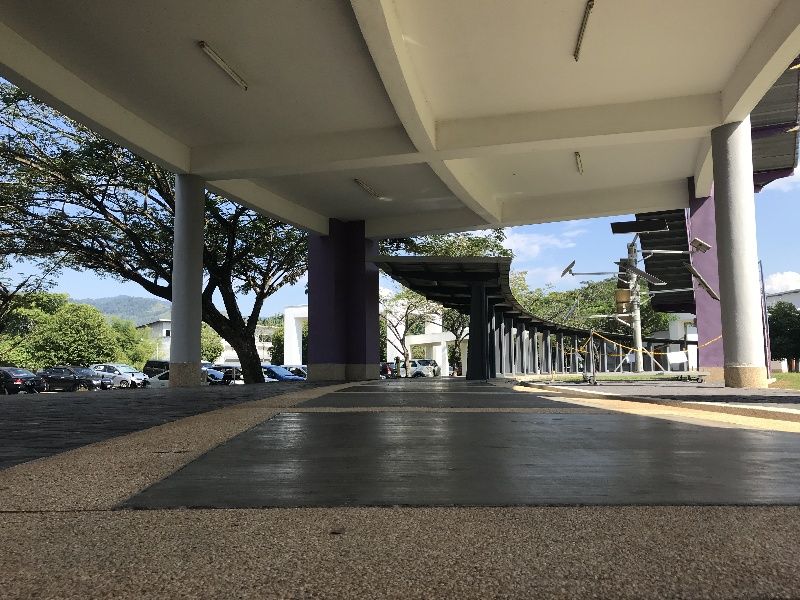pillar: (693, 122, 772, 399), (293, 204, 395, 403), (159, 171, 205, 399), (451, 284, 503, 394)
